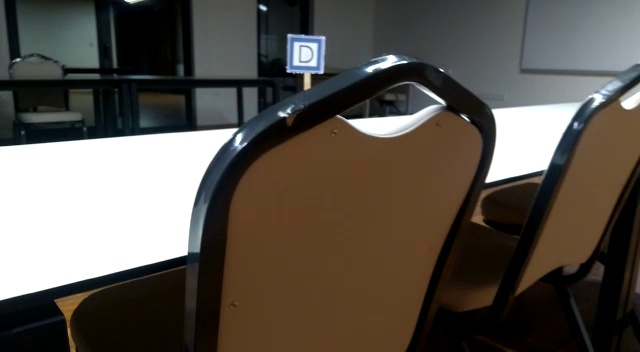durak: (286, 34, 327, 71)
